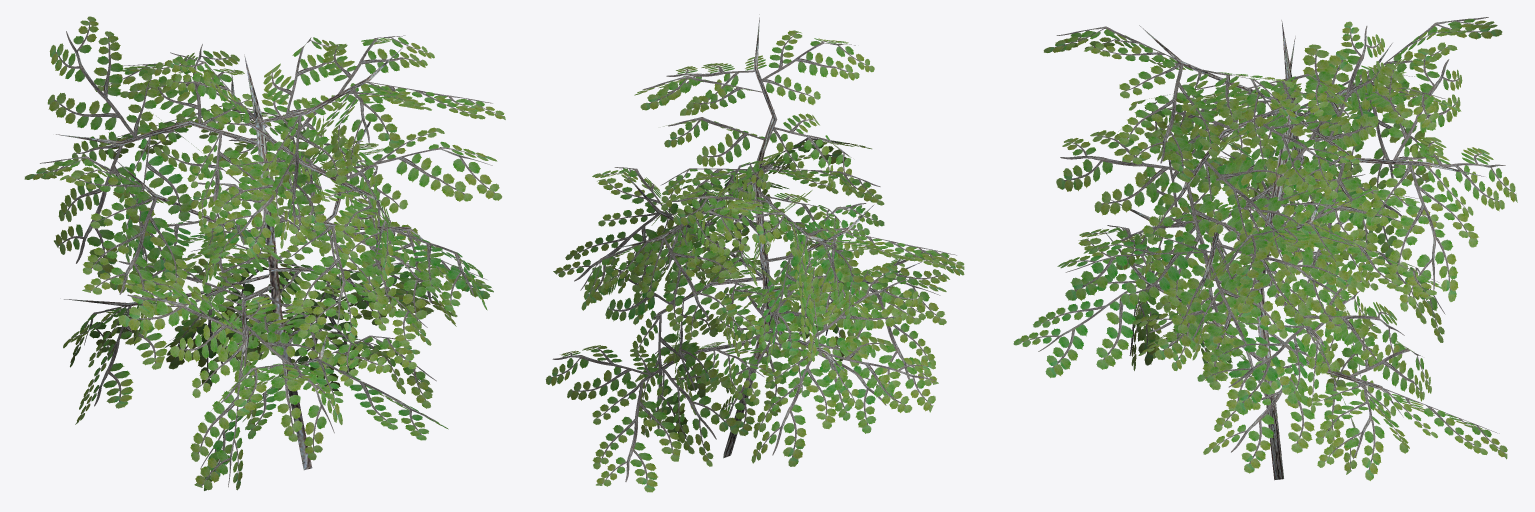
Rendered from Bush_01_01.obj.
3 views of the same model, side by side, from view 1: azimuth 30°, elevation 25°; view 2: azimuth 150°, elevation 25°; view 3: azimuth 270°, elevation 25° (orthographic). The views are drawn at different scales.
Visible parts, largest first — view 1: polySurface3; view 2: polySurface3; view 3: polySurface3.
Part boxes in pixels (x1,y1,x2,y2): polySurface3: (24,16,505,490); polySurface3: (545,14,964,492); polySurface3: (1013,17,1517,480).
Bounding box in the file's own units: 33.5 × 33.35 × 33.32.
1 material, 1 textured.
